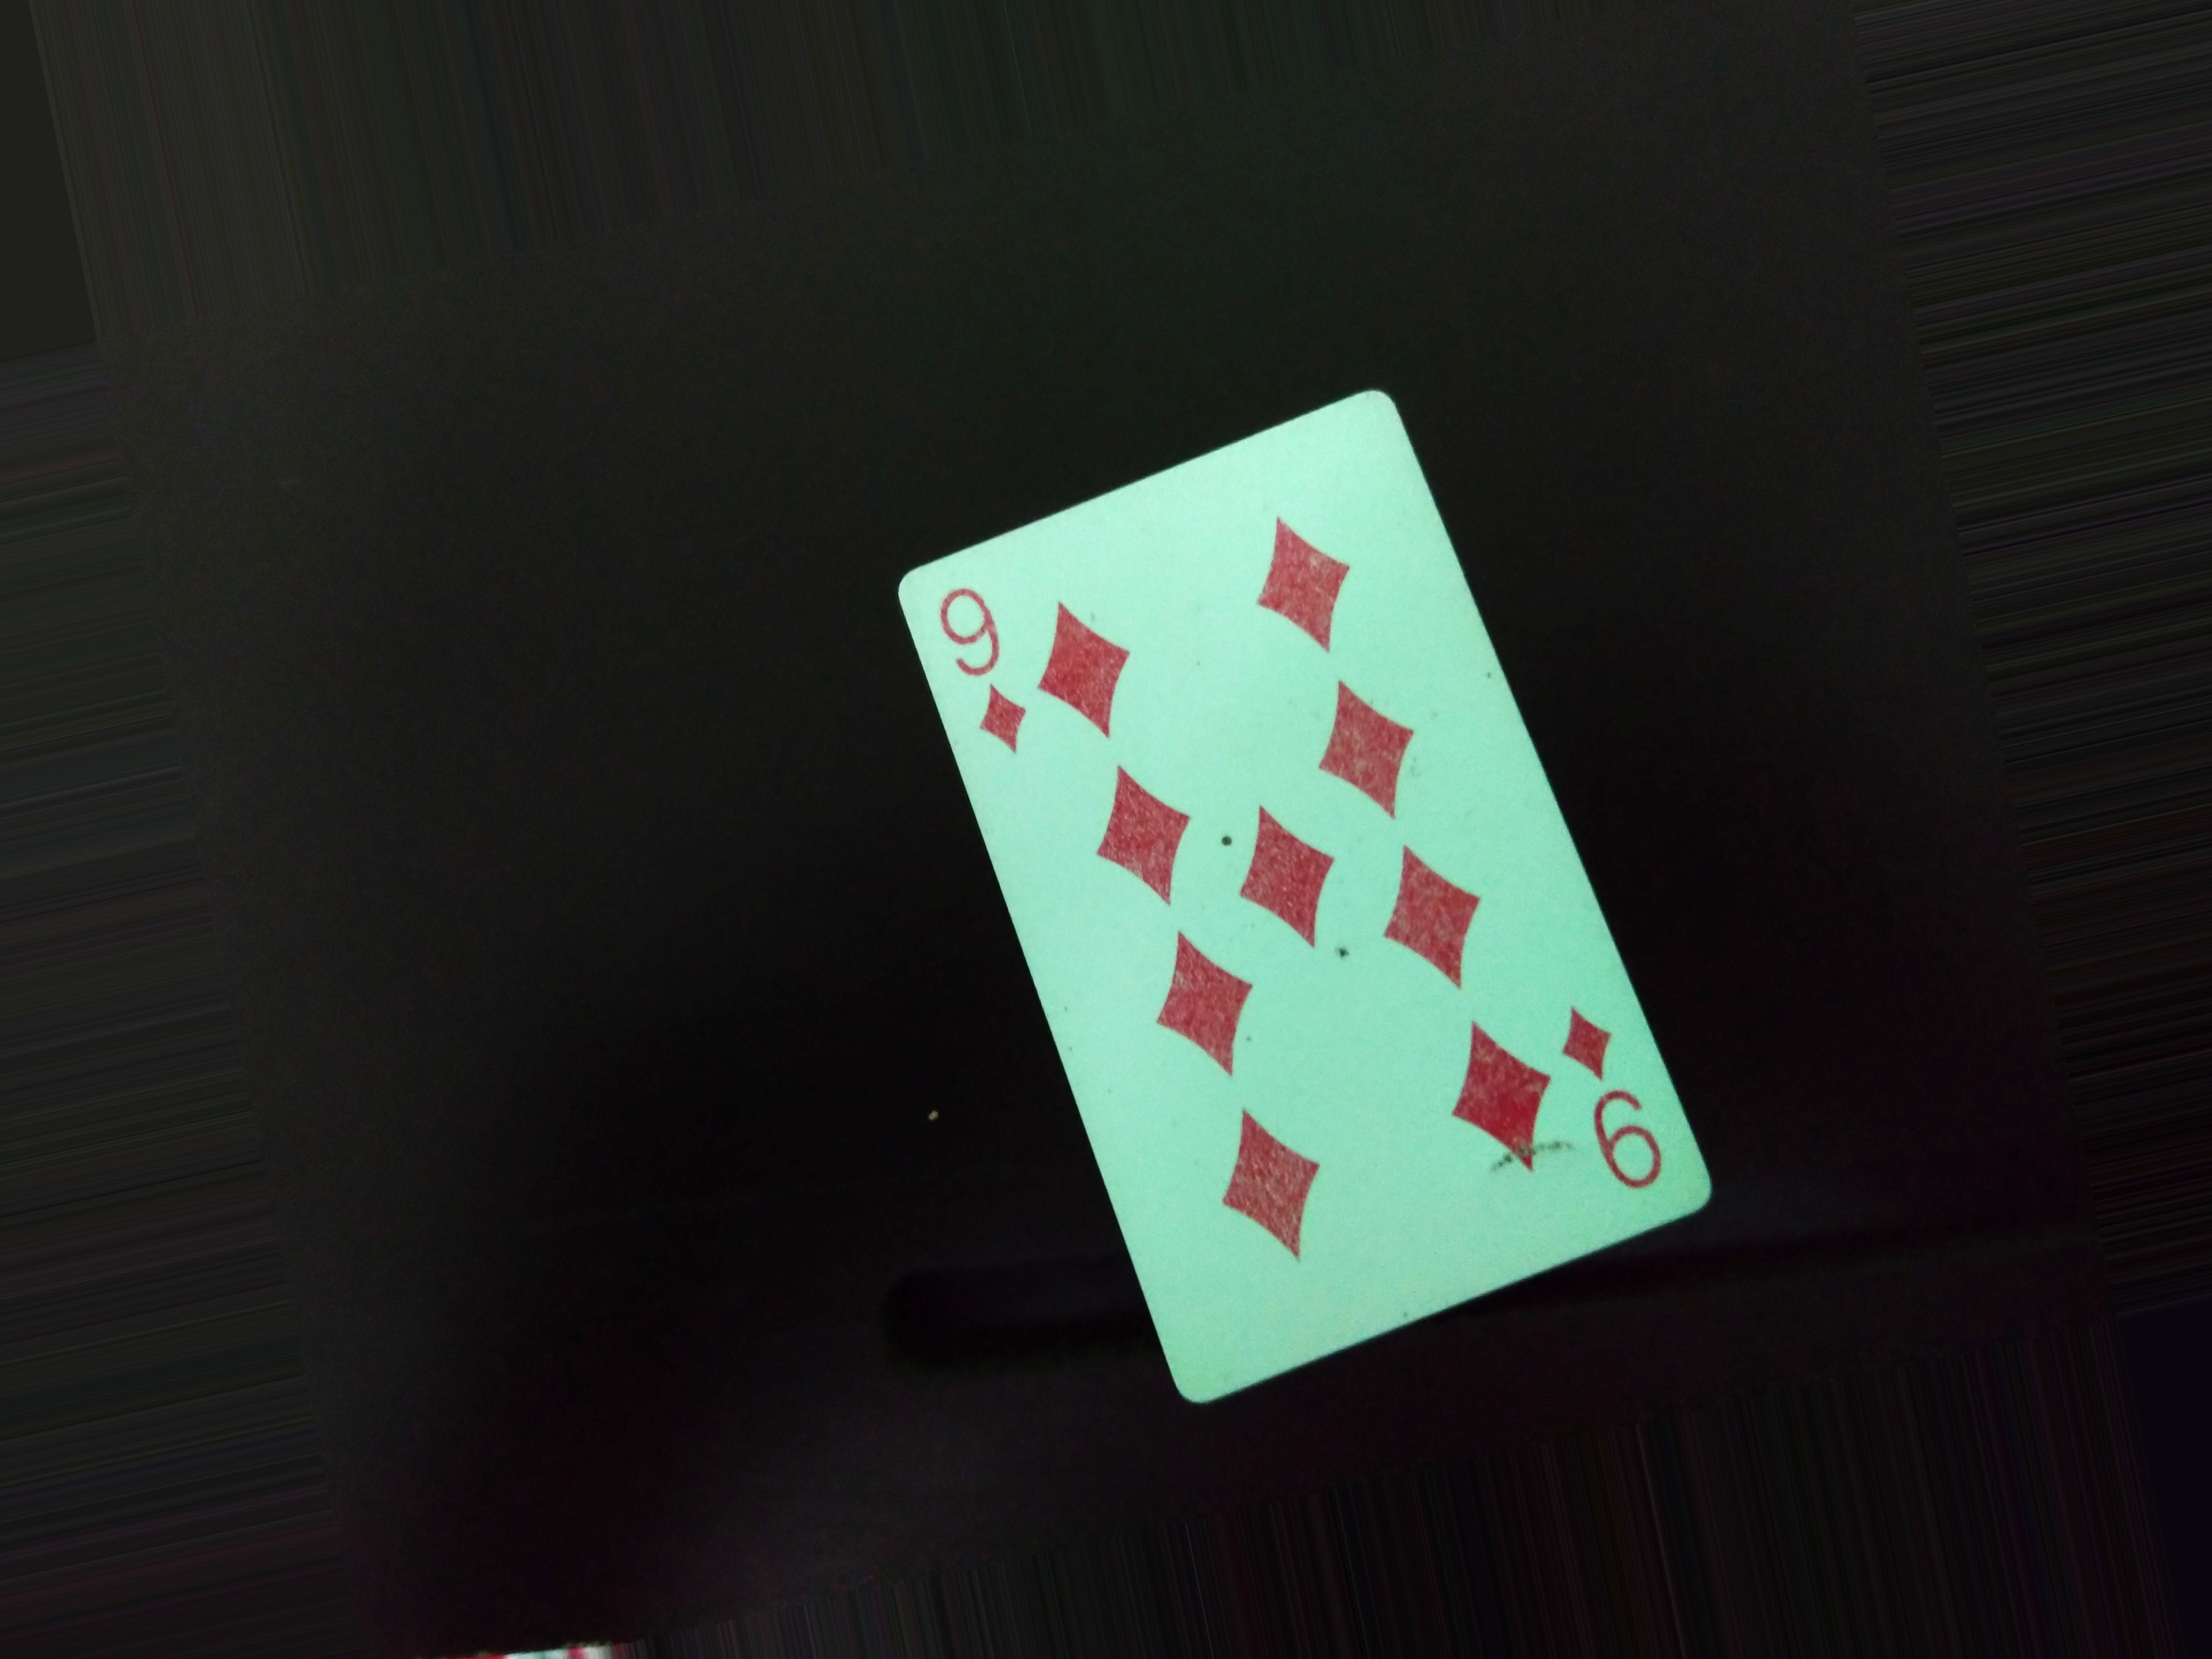9D: (921, 577, 1059, 770)
